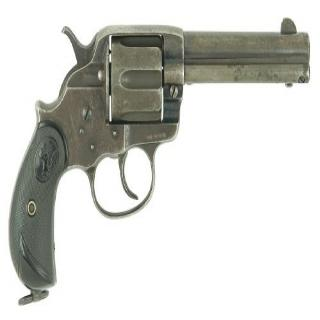gun: (9, 12, 314, 304)
